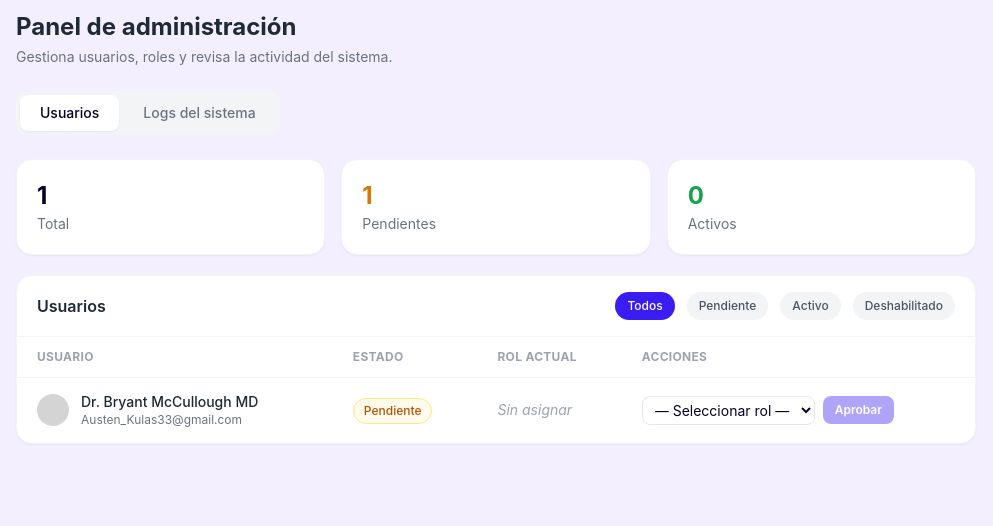
Test: UsersTab › shows error when approveUser fails
This screenshot has width=993, height=526.
Select "Administrador" in the dropdown showing "— Seleccionar rol —" at (728, 410), box [642, 396, 815, 424]
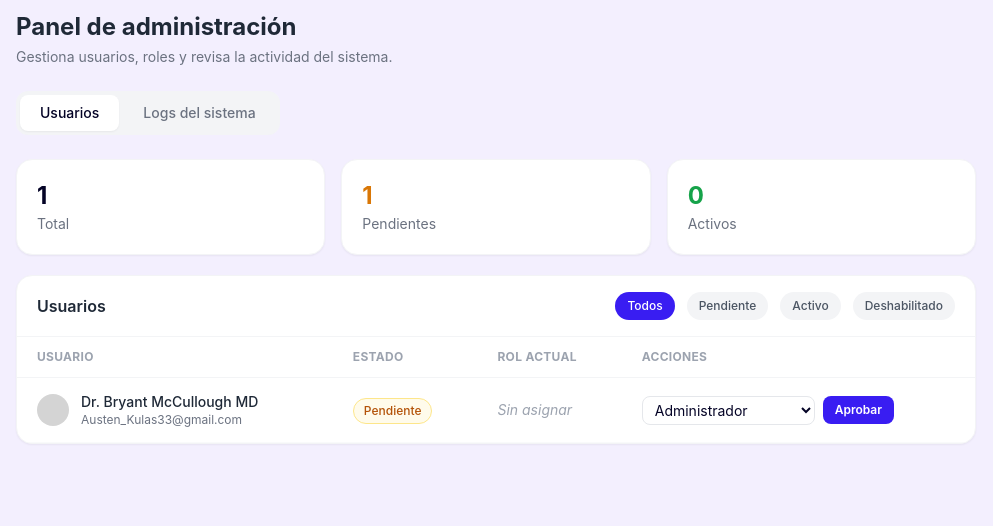
Click the button "Aprobar" at (858, 410), box [823, 396, 894, 424]
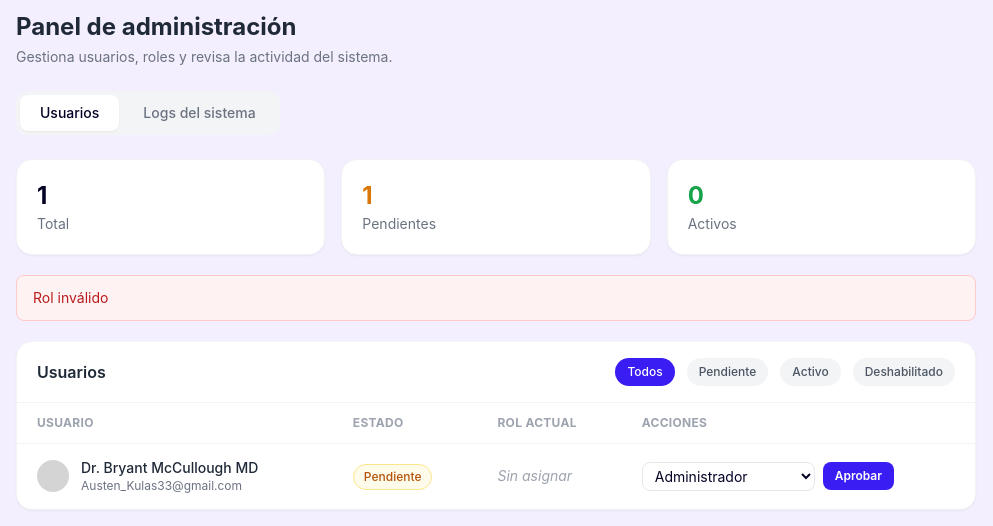
Expected: the text "Rol inválido" is shown, [16, 275, 976, 321]
